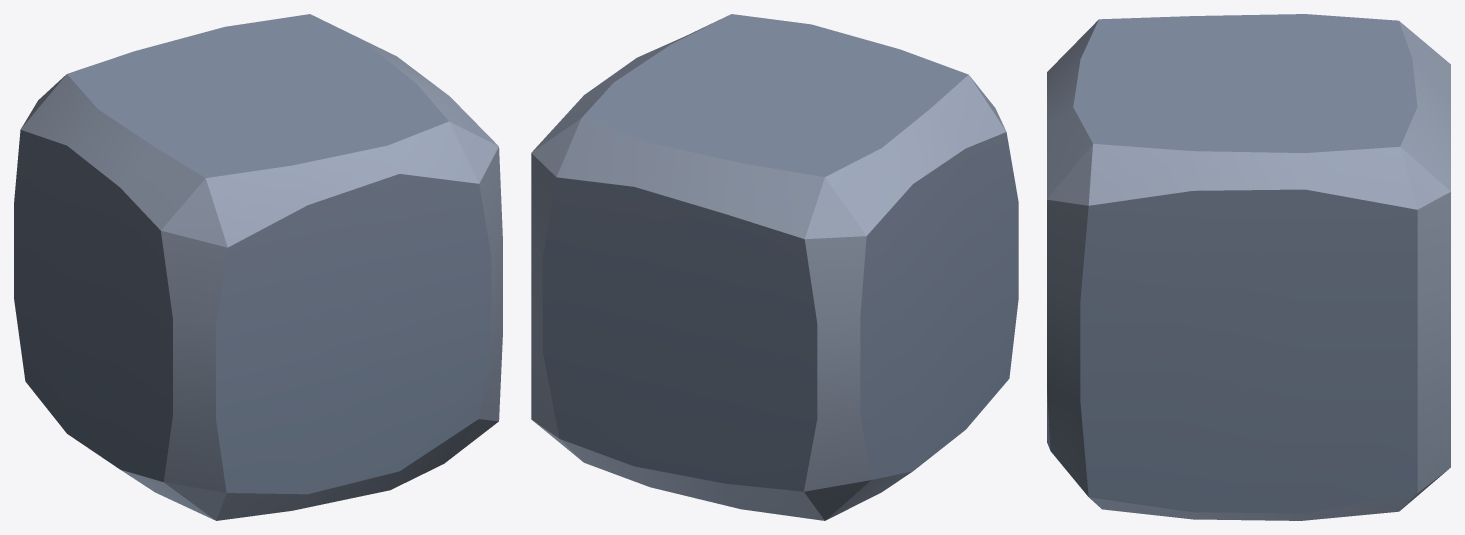
Rendered from Stone.fbx.
3 renders of one model, left to right at view 1: azimuth 30°, elevation 25°; view 2: azimuth 150°, elevation 25°; view 3: azimuth 270°, elevation 25°, orthographic. The views are drawn at different scales.
Parts seen in each view (by area): view 1: Cube.006; view 2: Cube.006; view 3: Cube.006.
Boxes of the visible parts, x1,y1,x2,y2 form: Cube.006: (14, 14, 502, 520); Cube.006: (531, 14, 1018, 520); Cube.006: (1047, 14, 1450, 520).
Size of the model in its own units: 30.38 by 30.38 by 30.38.
